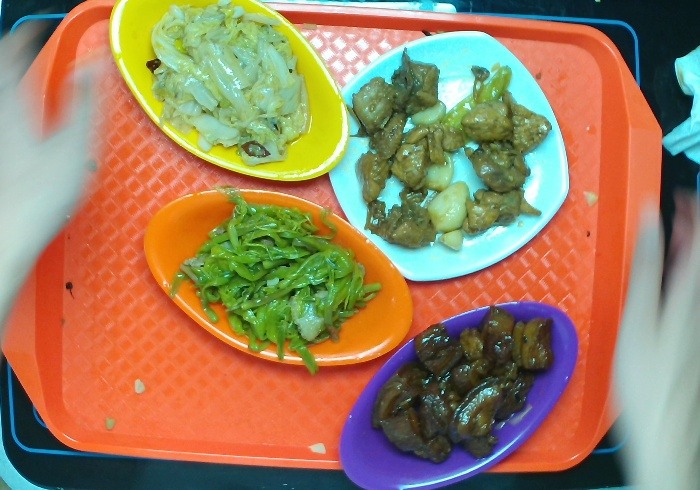RJxy-Fen_Hong_Tuo_Yuan: (340, 304, 584, 490)
RJxy-Huang_Se_Tuo_Yuan: (108, 1, 352, 187)
RJxy-Ju_Huang_Tuo_Yuan: (135, 186, 411, 372)
RJxy-Si_Fang_Die: (333, 31, 572, 272)
